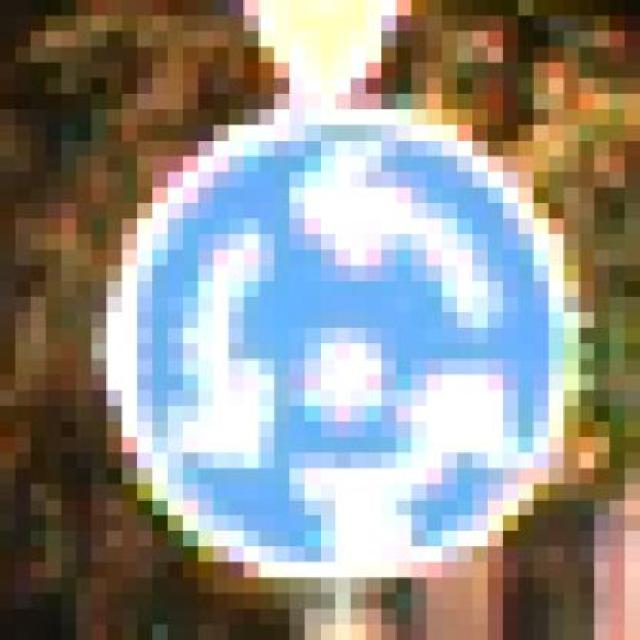Round-About: (45, 78, 610, 593)
